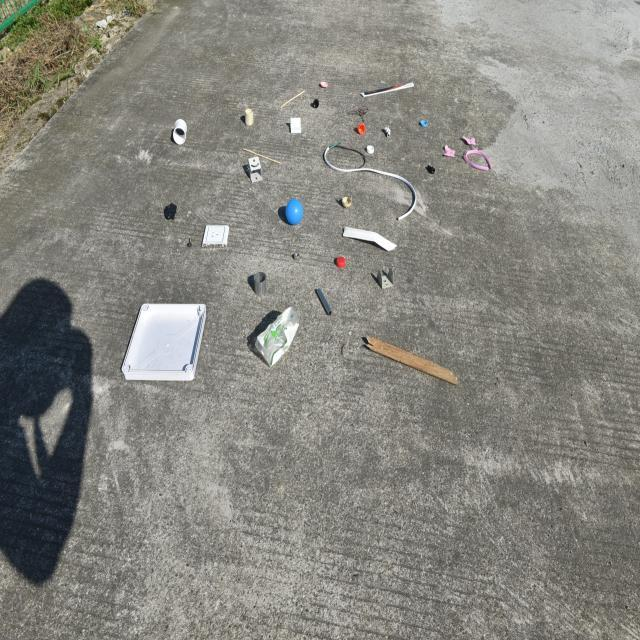Debris: (119, 298, 205, 387), (362, 329, 461, 387), (316, 139, 408, 192), (256, 303, 299, 369), (446, 128, 493, 176), (358, 75, 418, 95), (335, 226, 403, 243), (280, 195, 312, 231), (199, 219, 231, 254), (311, 276, 334, 324), (370, 268, 400, 296), (242, 269, 271, 293), (283, 112, 313, 135), (172, 112, 188, 147), (244, 156, 262, 186), (162, 203, 184, 224), (240, 105, 260, 128), (378, 119, 394, 143), (416, 109, 430, 134), (353, 119, 368, 138), (354, 103, 374, 117), (332, 248, 346, 266), (422, 159, 435, 178), (309, 92, 322, 110), (334, 198, 352, 206), (319, 79, 329, 90), (364, 142, 374, 153)
